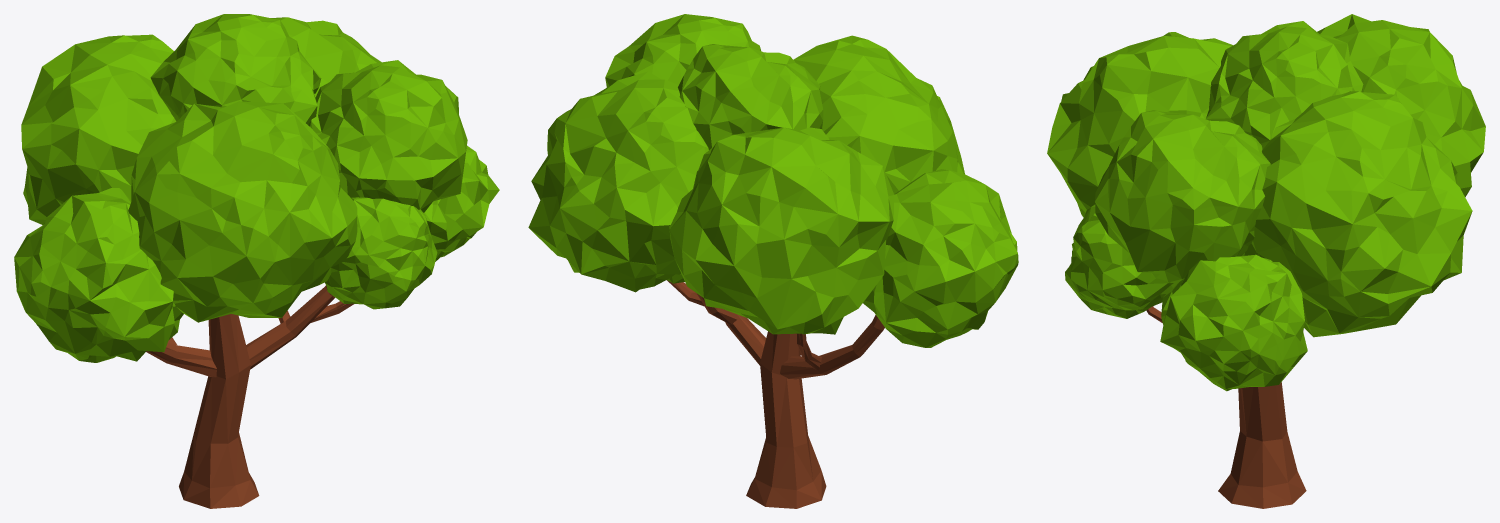
The model's file is BigTree.gltf.
The picture shows the model from 3 angles, left to right: view 1: azimuth 30°, elevation 25°; view 2: azimuth 150°, elevation 25°; view 3: azimuth 270°, elevation 25°; orthographic projection. The views are drawn at different scales.
Parts seen in each view (by area): view 1: Tree.3; view 2: Tree.3; view 3: Tree.3.
Part boxes in pixels (box(x1,y1,x2,y2)): Tree.3: box(14, 14, 499, 508); Tree.3: box(528, 14, 1018, 508); Tree.3: box(1047, 14, 1485, 508).
Bounding box in the file's own units: 818 × 762 × 638.
